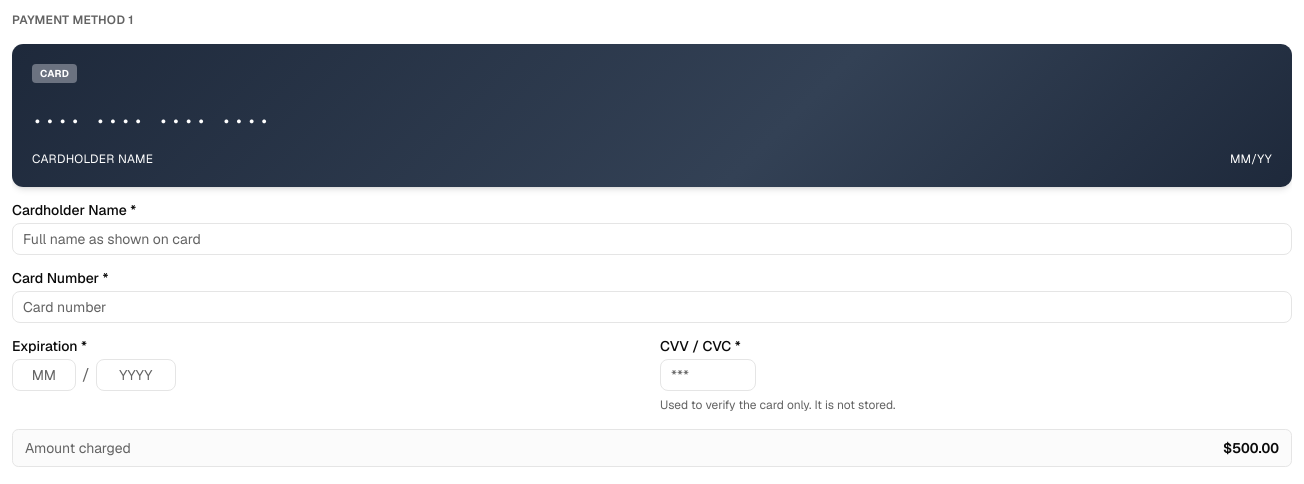
Test: CardPaymentSection — the CVV/CVC input › accepts digits only, at most four
Type "1a2b3c4d5" into the password field labelled "CVV / CVC *" at (708, 375), box x1=660 y1=359 x2=756 y2=391
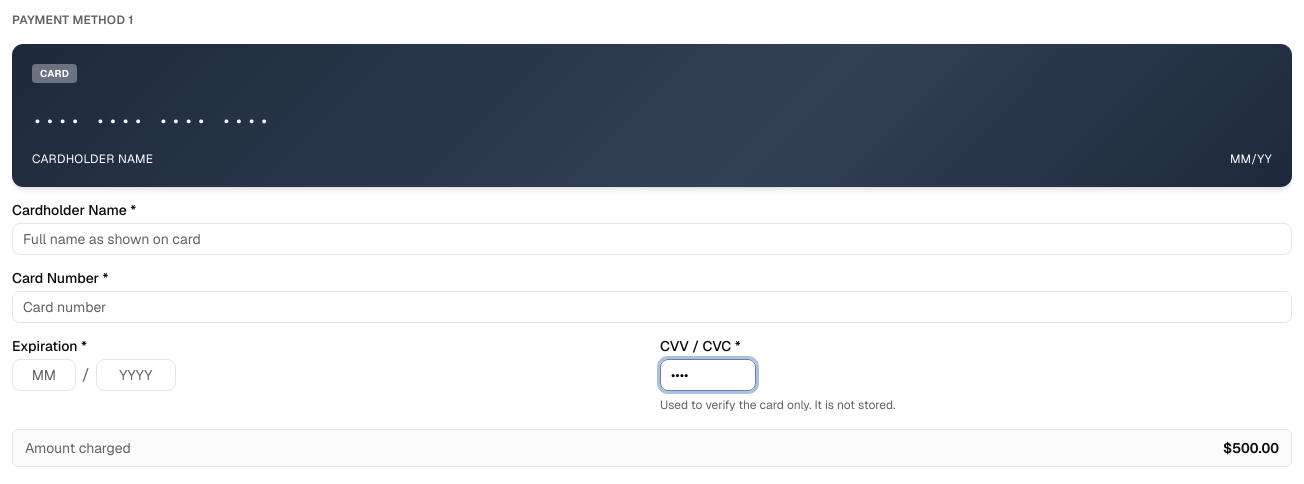
Check: the password field labelled "CVV / CVC *" holds "1234", box x1=660 y1=359 x2=756 y2=391
